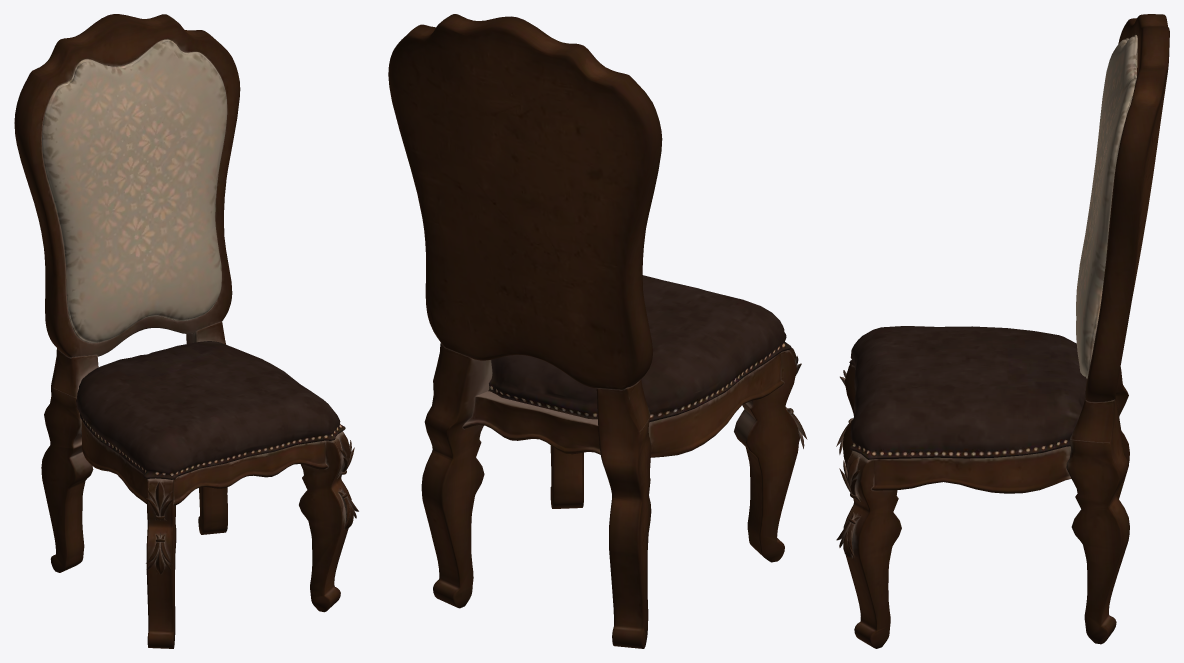
The model's file is dining_chair_victorian_abdullah_mohammed.glb.
3 renders of one model, left to right at view 1: azimuth 30°, elevation 25°; view 2: azimuth 150°, elevation 25°; view 3: azimuth 270°, elevation 25°, orthographic. The views are drawn at different scales.
Visible parts, largest first — view 1: victorian_chair_cloth_cloth_0, victorian_chair_wood_wood_0; view 2: victorian_chair_wood_wood_0, victorian_chair_cloth_cloth_0; view 3: victorian_chair_wood_wood_0, victorian_chair_cloth_cloth_0.
Boxes of the visible parts, bbox=[...] form: victorian_chair_cloth_cloth_0: bbox=[42, 39, 345, 479]; victorian_chair_wood_wood_0: bbox=[14, 14, 358, 648]; victorian_chair_wood_wood_0: bbox=[388, 14, 807, 648]; victorian_chair_cloth_cloth_0: bbox=[488, 275, 791, 422]; victorian_chair_wood_wood_0: bbox=[836, 14, 1169, 648]; victorian_chair_cloth_cloth_0: bbox=[849, 35, 1137, 459].
Bounding box in the file's own units: 0.6486 × 1.46 × 0.7746.
2 materials, 2 textured.
